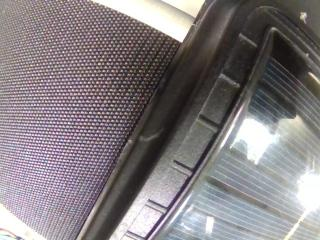solarboard: (163, 36, 320, 240)
